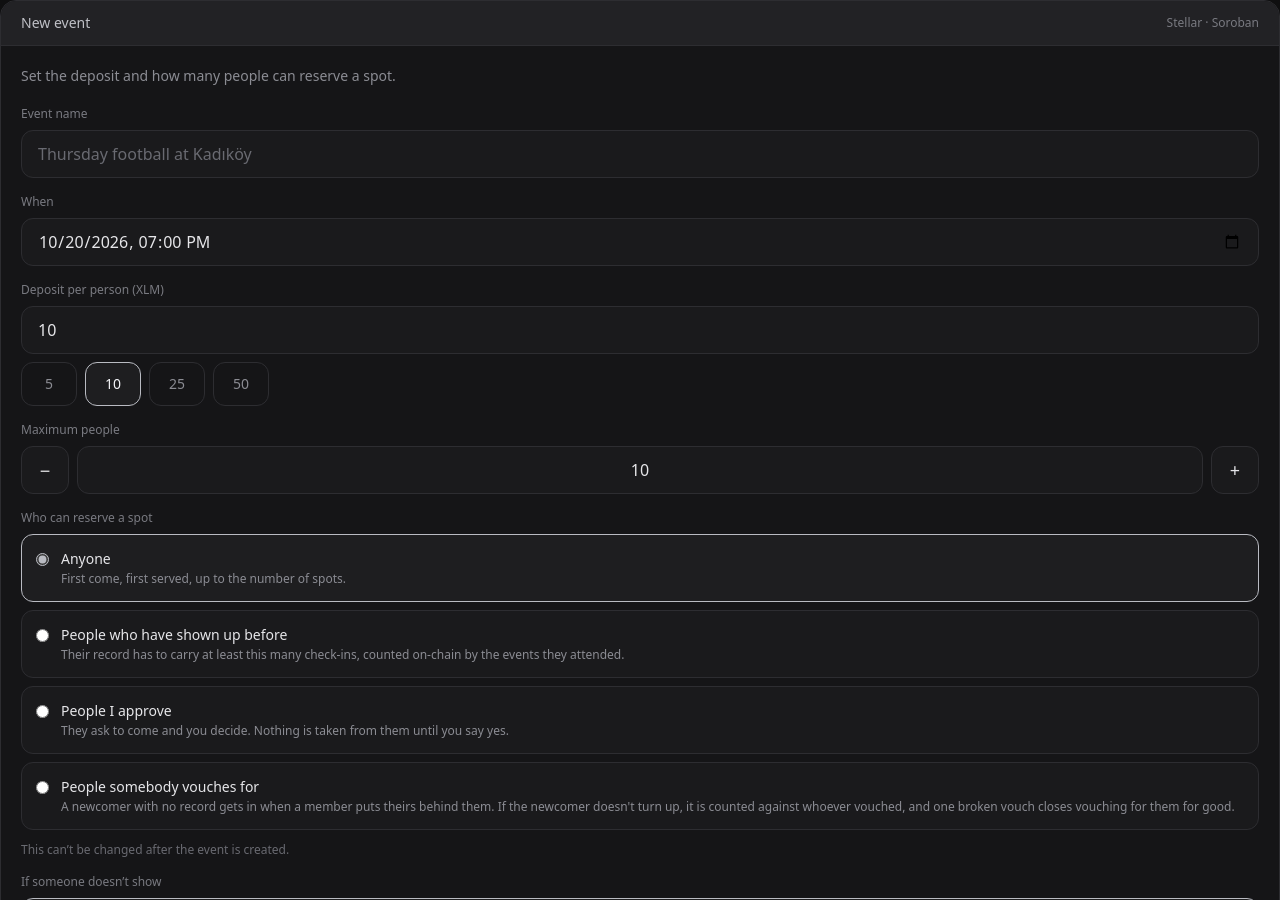
who can reserve a spot › carries the threshold with a Score gate, not just the tag
Type "Regulars only" into the field labelled "Event name" at (640, 154), box [21,130,1259,178]
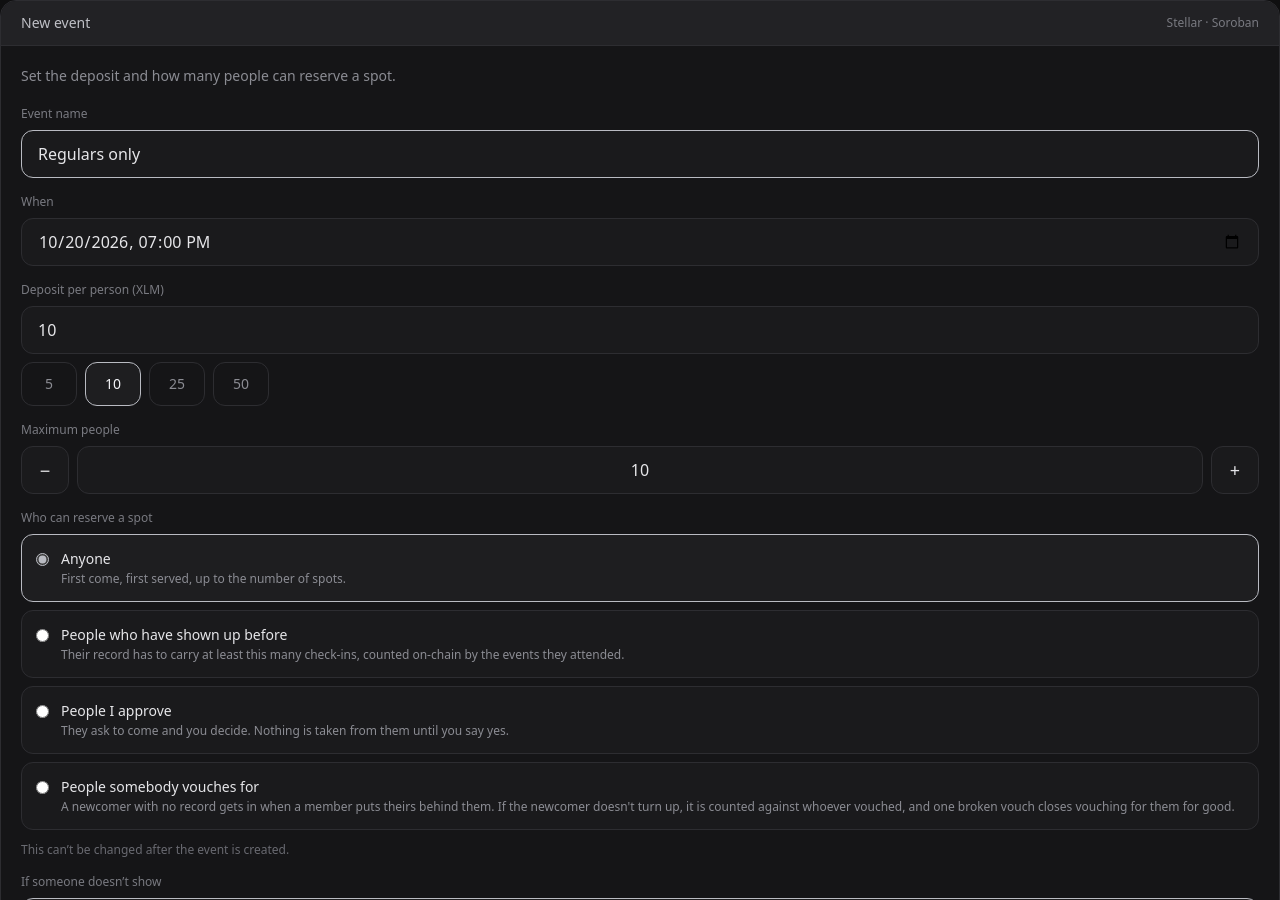
Click the radio button labelled "shown up before" at (42, 636), box [36,629,49,642]
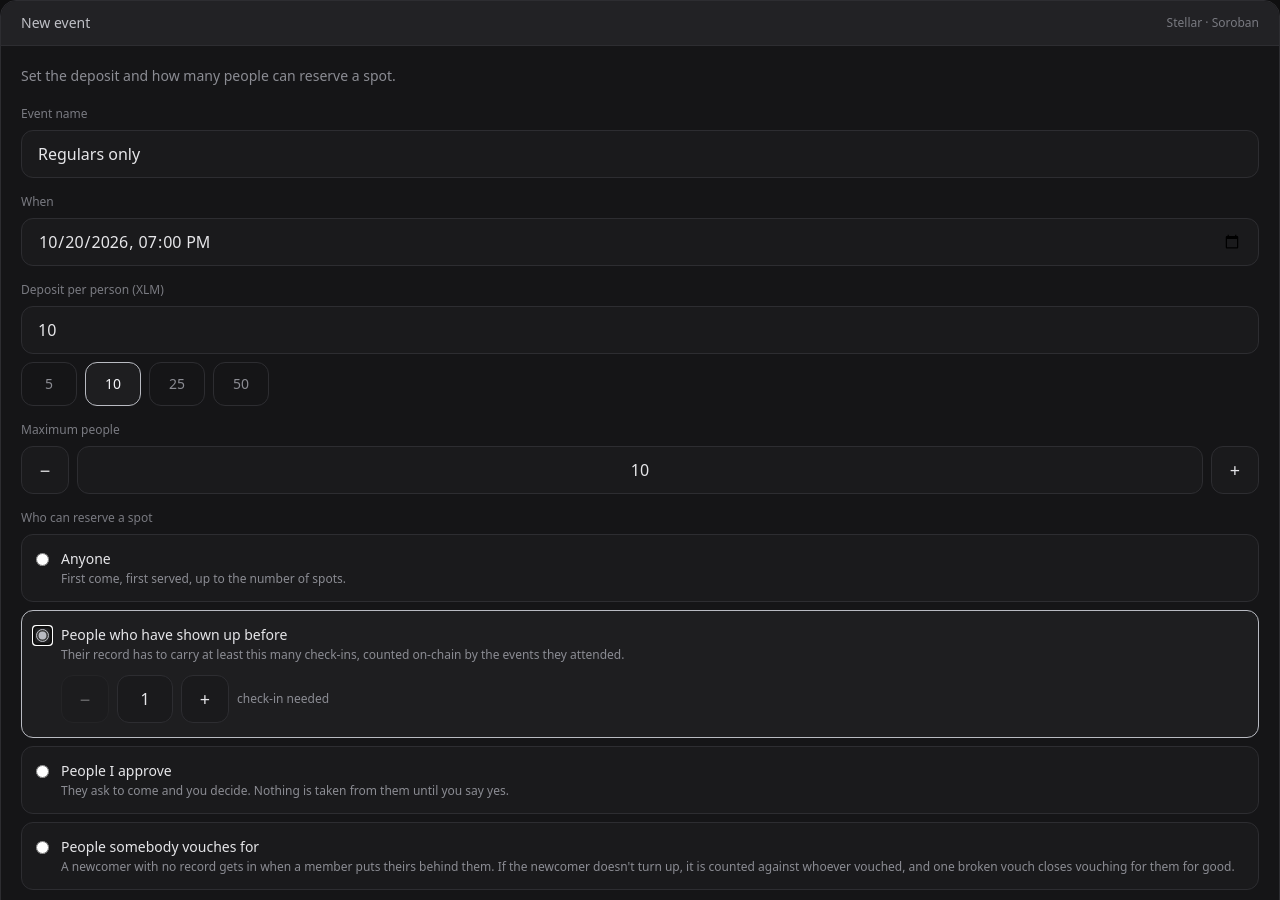
Click the button named "require one more check-in" at (205, 699), box [181,675,229,723]
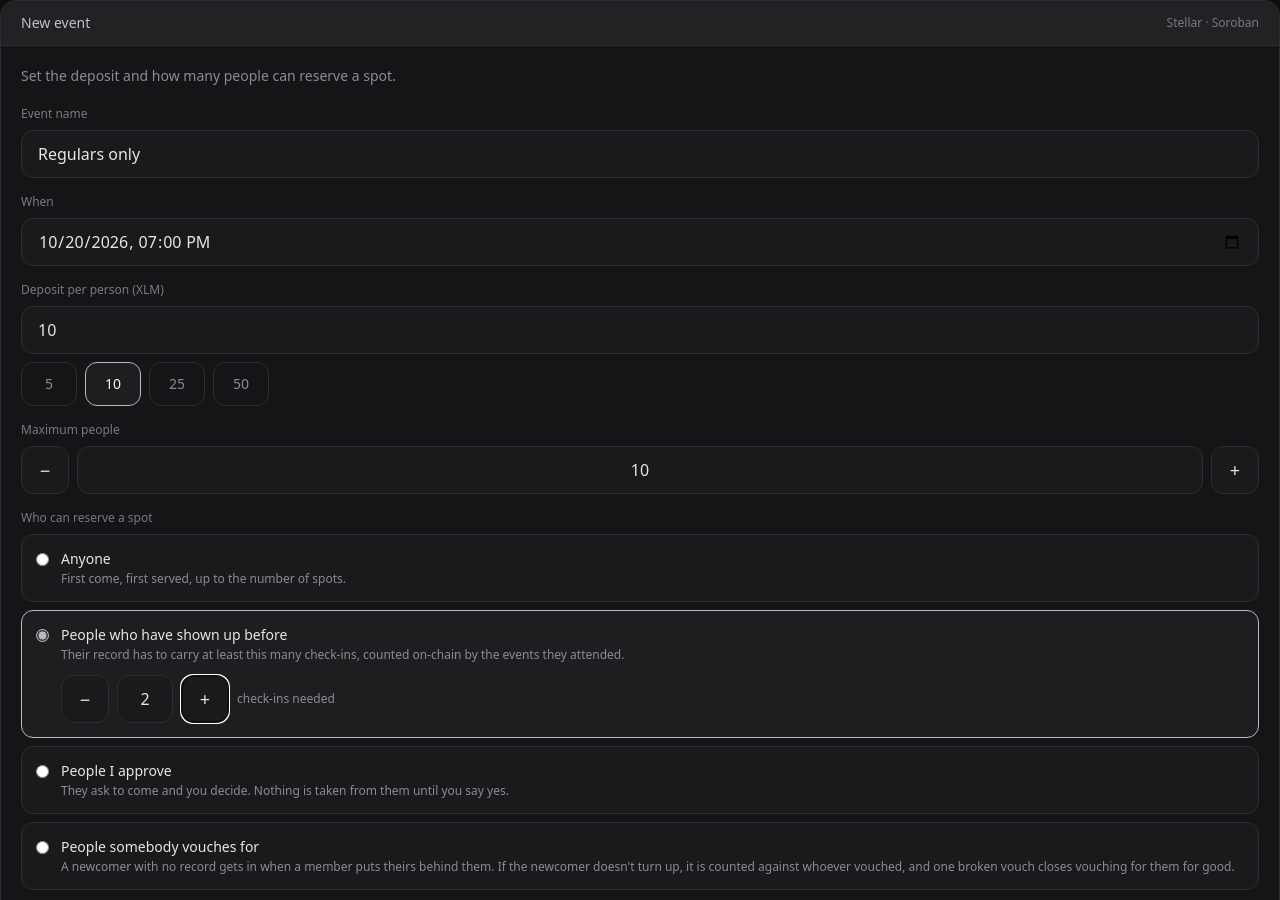
Click the button named "require one more check-in" at (205, 699), box [181,675,229,723]
(page scrolled)
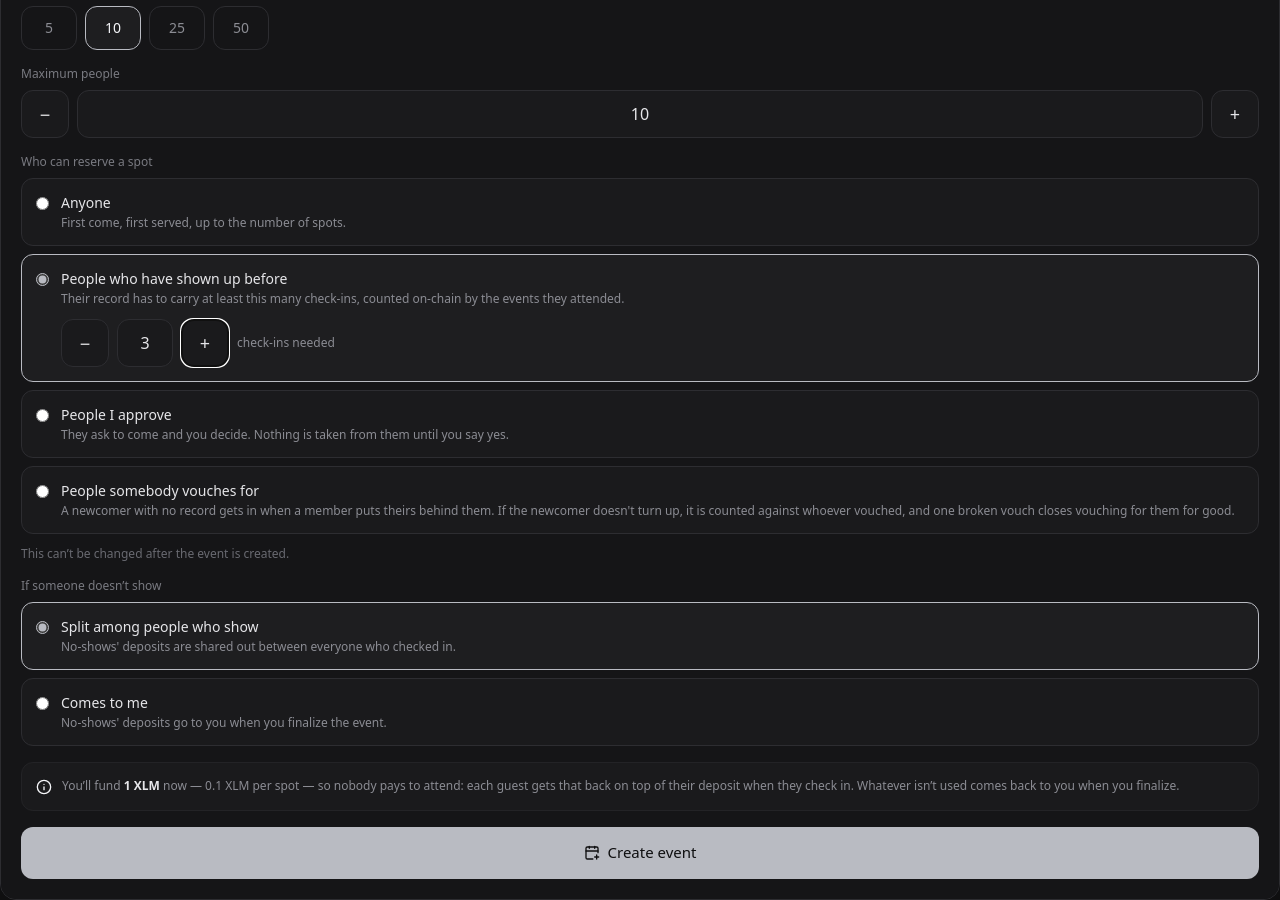
Click the button "Create event" at (640, 853), box [21,827,1259,879]
(page scrolled)
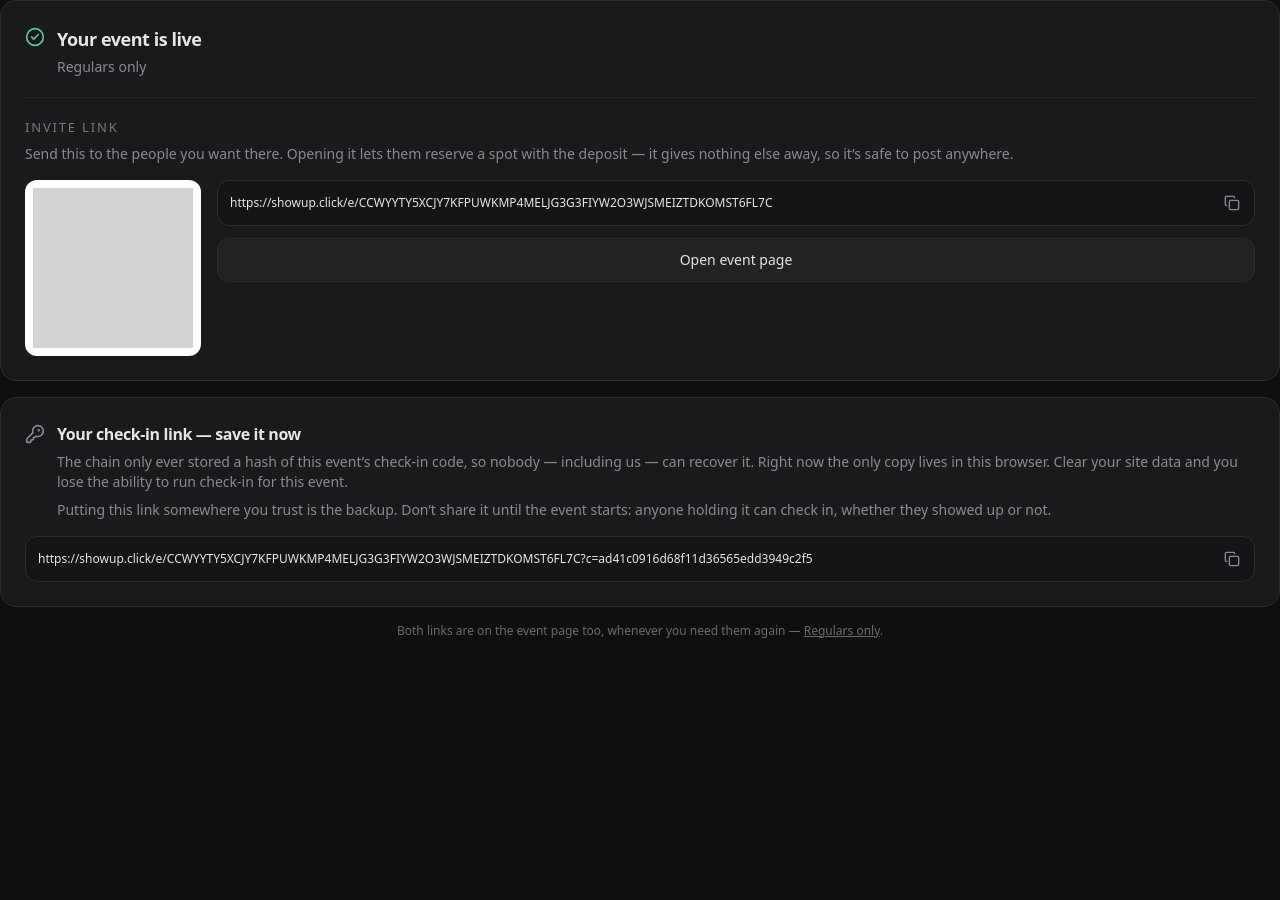
Now the heading "Your event is live" is shown, box [57,25,202,53]
